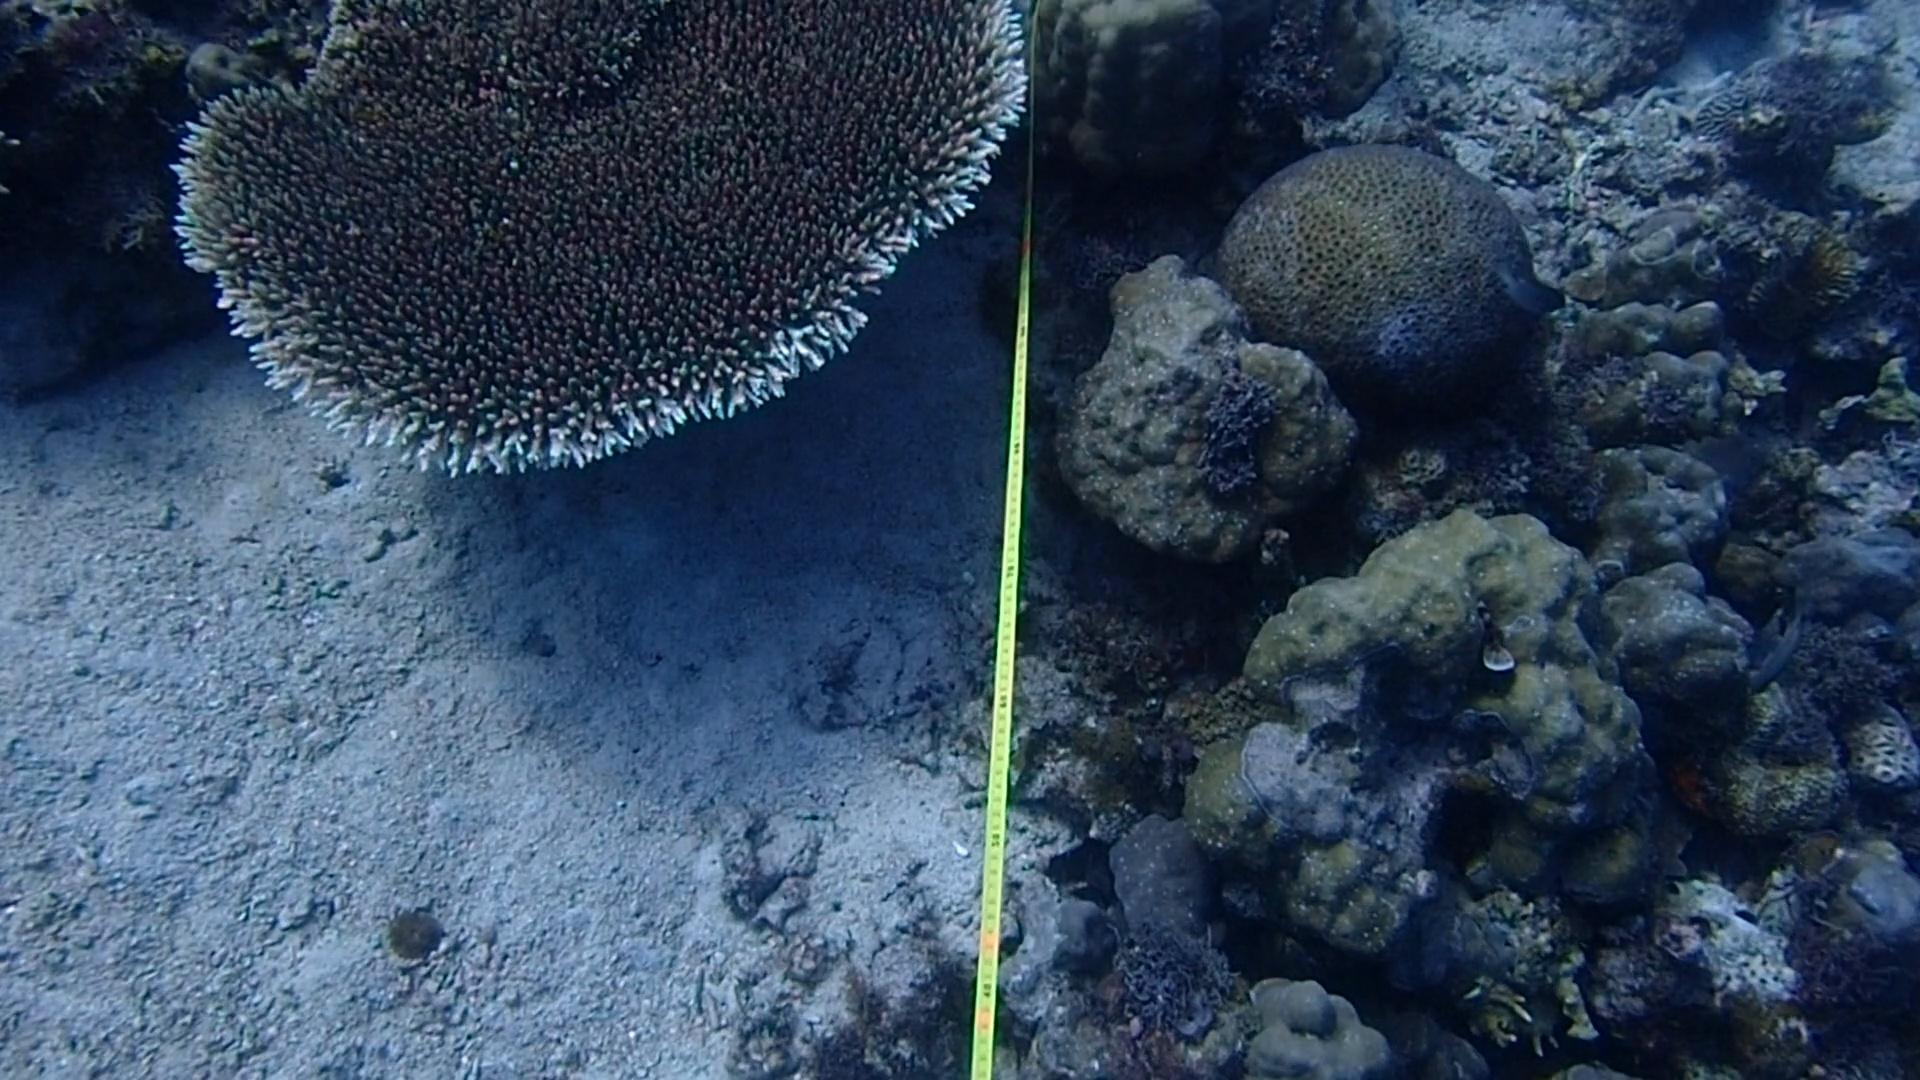Light Fish: (1495, 245, 1578, 338)
